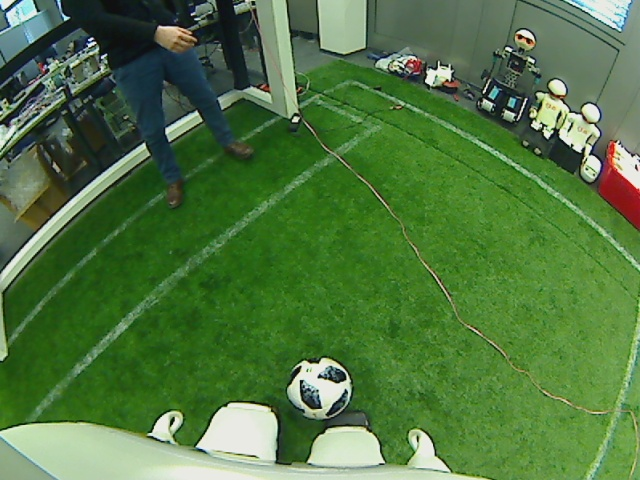ball: (284, 355, 358, 423)
